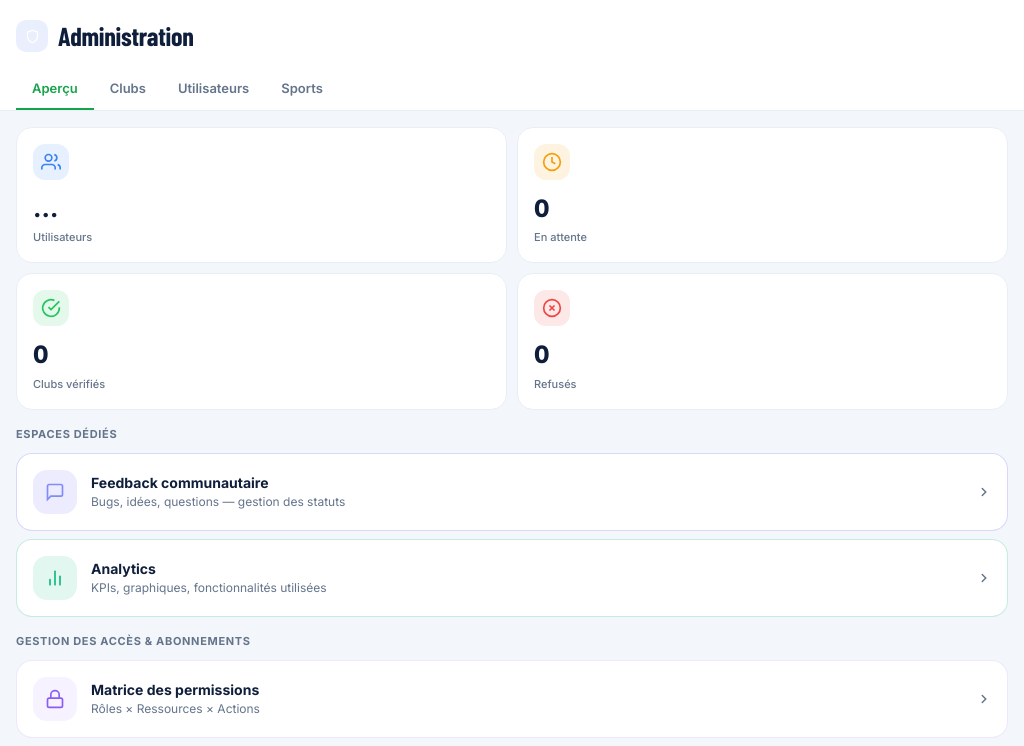
Scenario: AdminPage — onglet Clubs › affiche la liste des clubs pending quand on clique sur onglet
The image size is (1024, 746).
What coordinates should you click on to do the following:
click the button "0 Clubs vérifiés"
I would click on:
 (51, 308)
Its box is [16,273,507,410].
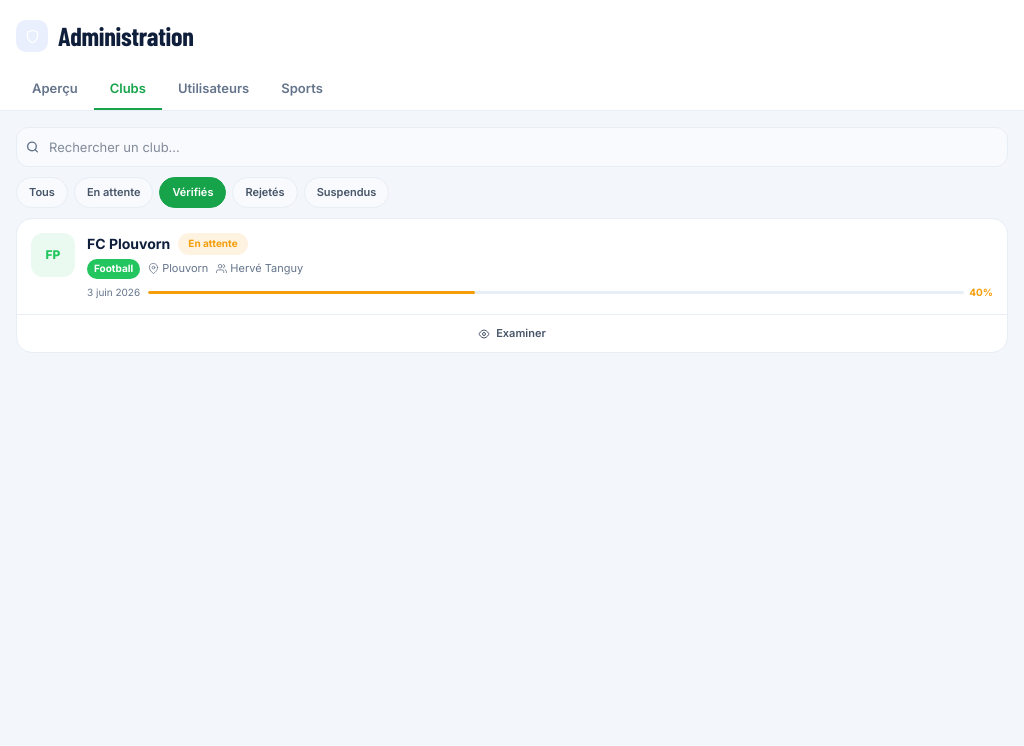
Expected: the text "FC Plouvorn" is shown, [87,233,170,255]
